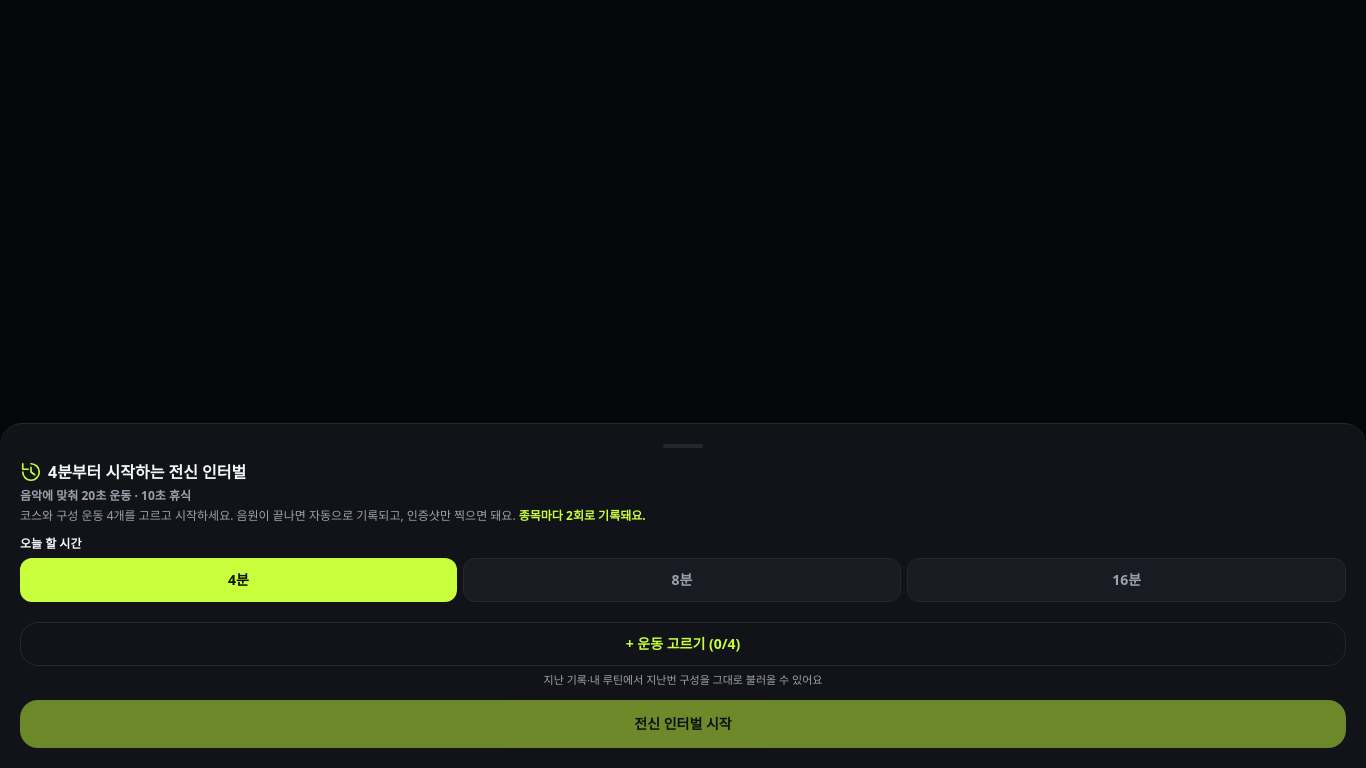
Scenario: TabataSheet — 운동 고르기 배선 (2026-08-06) › 4개를 넘겨 담아도 한도에서 잘린다
The width and height of the screenshot is (1366, 768).
Click the button "+ 운동 고르기 (0/4)" at x=683, y=644, box 20,622 -> 1346,666
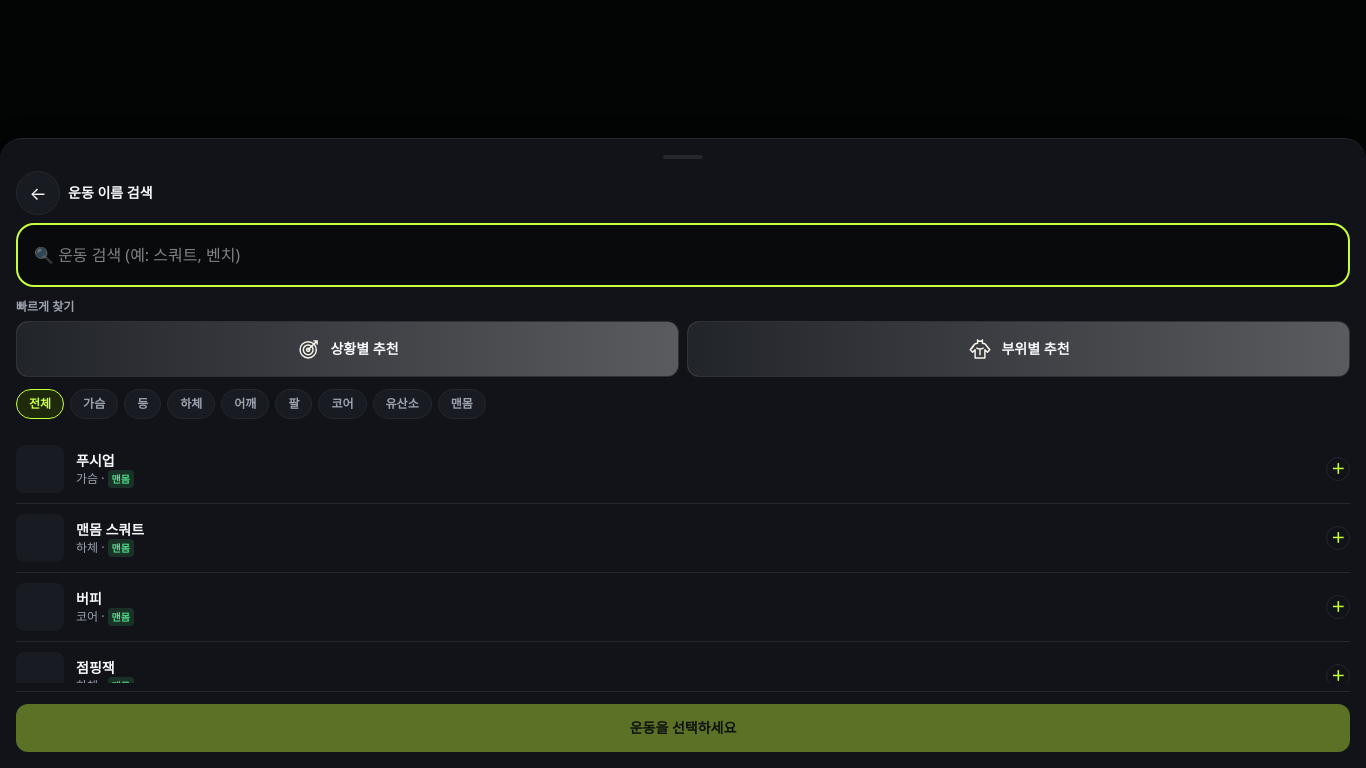
Click the text "푸시업" at x=95, y=460, box 76,451 -> 115,470
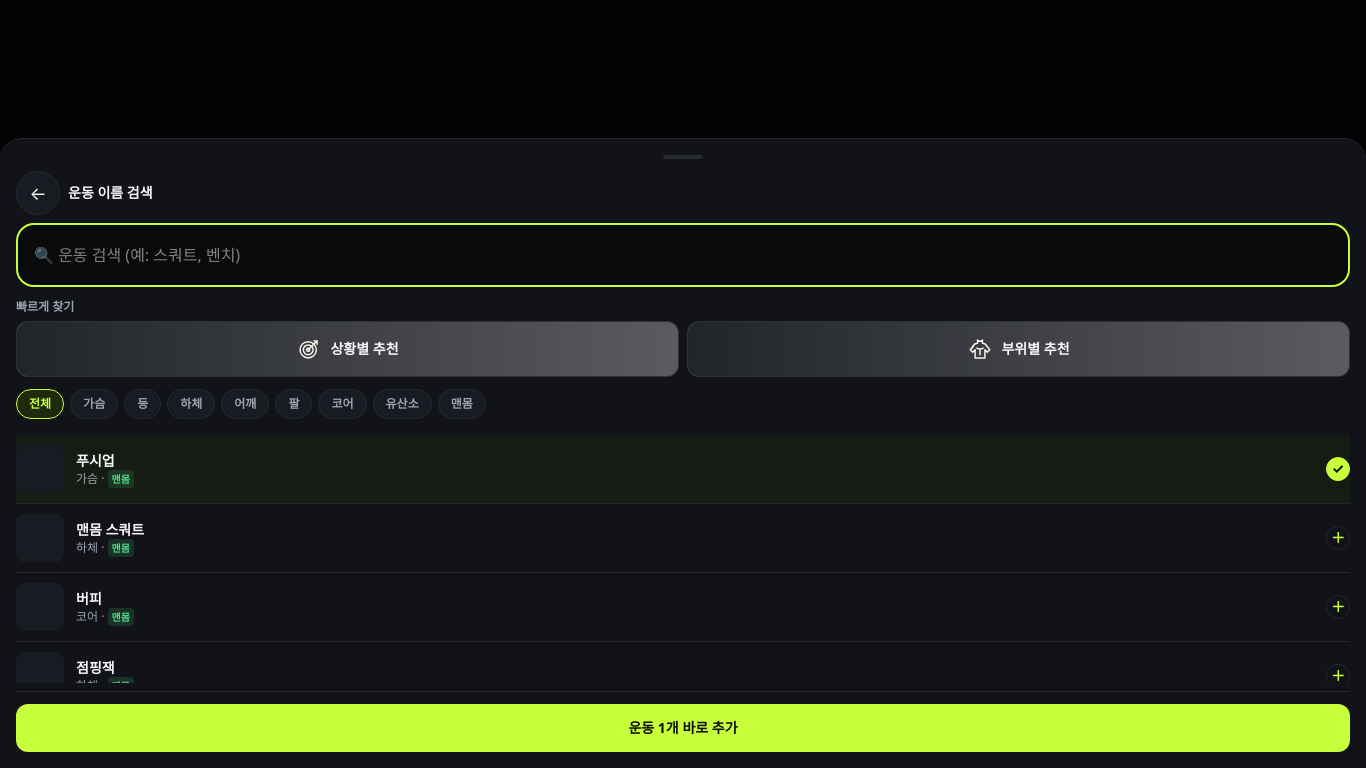
Click the text "맨몸 스쿼트" at x=110, y=530, box 76,520 -> 144,539
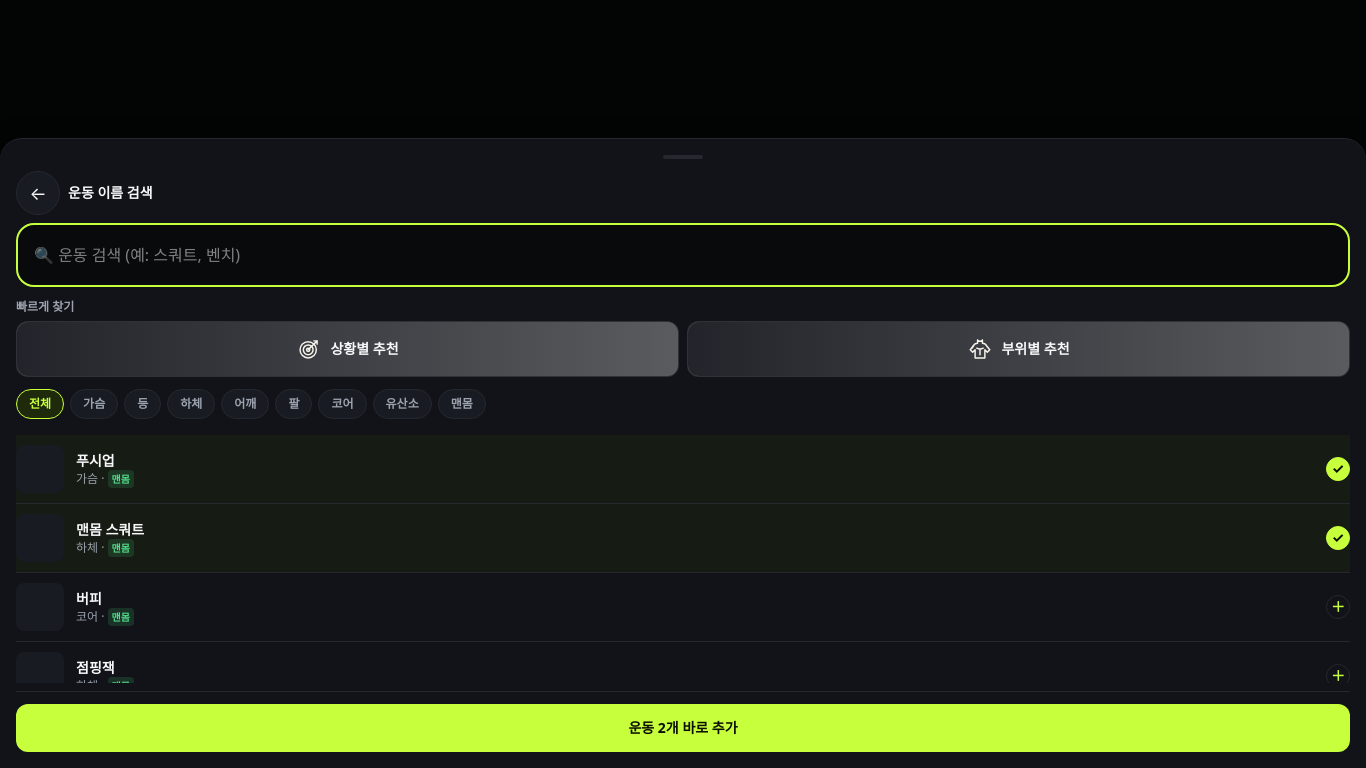
Click the text "버피" at x=89, y=598, box 76,589 -> 102,608
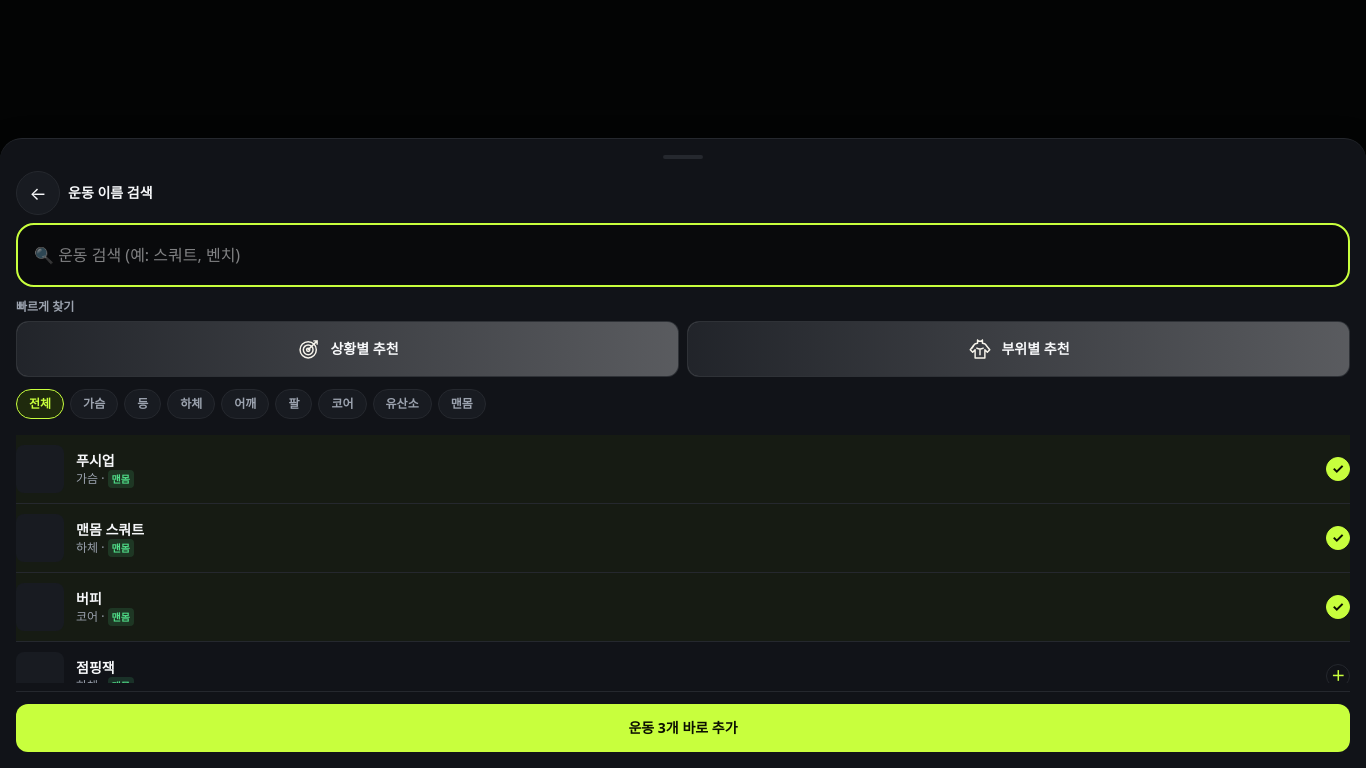
Click the text "점핑잭" at x=95, y=668, box 76,658 -> 115,677
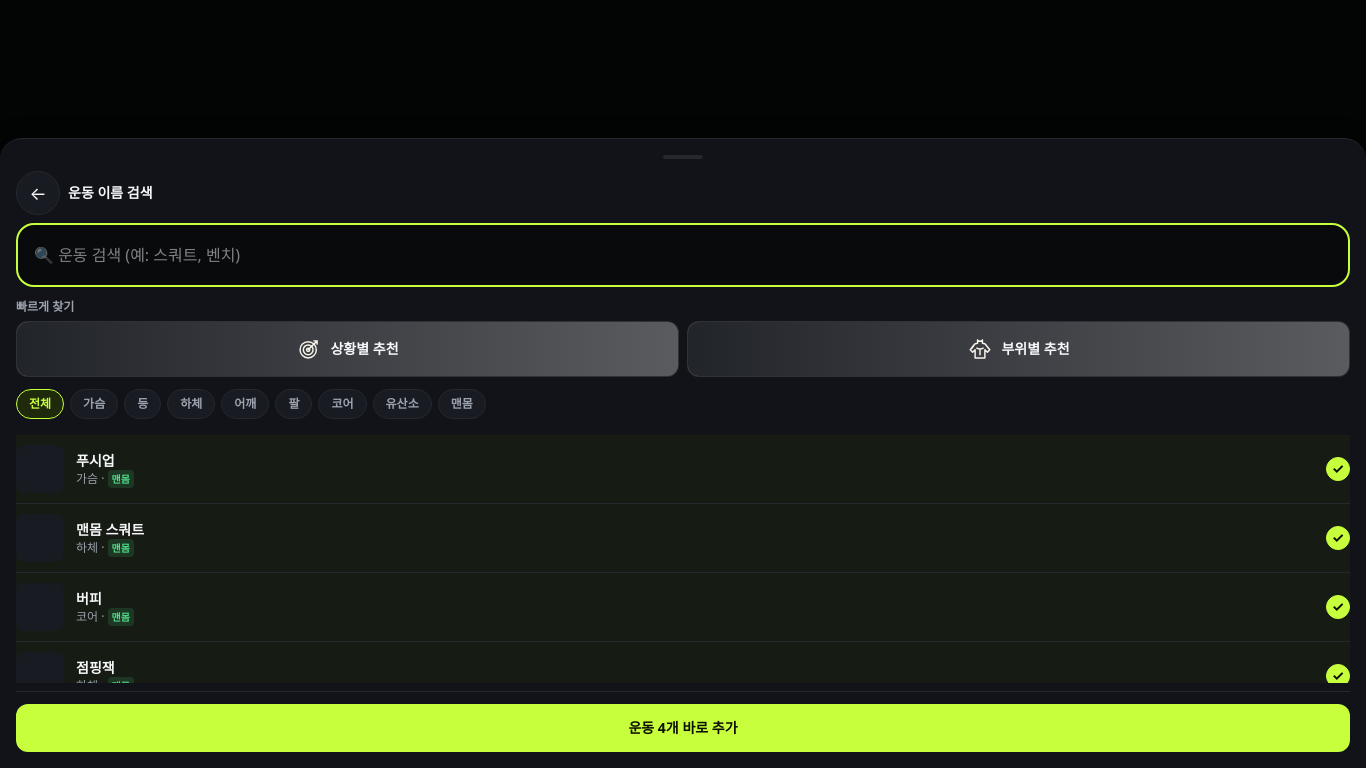
Click the button "운동 4개 바로 추가" at x=683, y=728, box 16,704 -> 1350,752
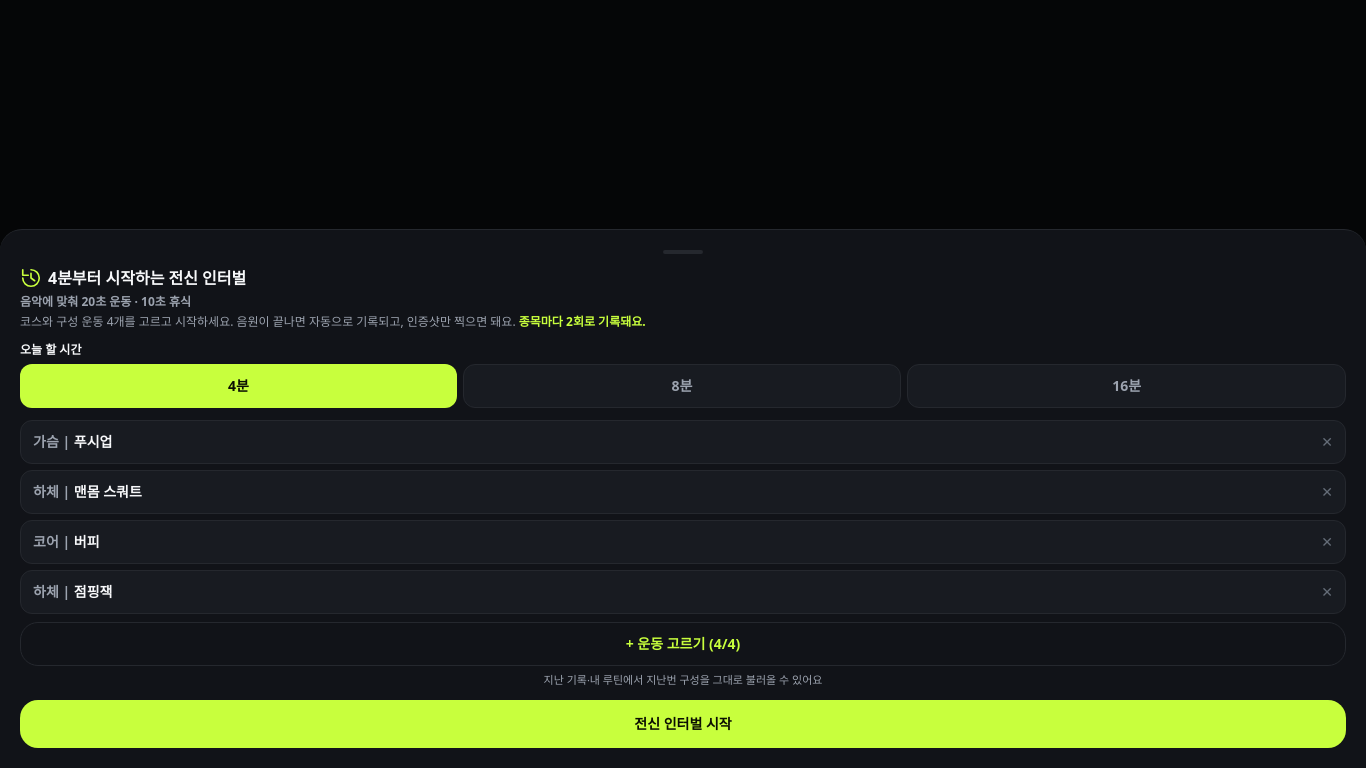
Check: the button "+ 운동 고르기 (4/4)" is shown, box 20,622 -> 1346,666
